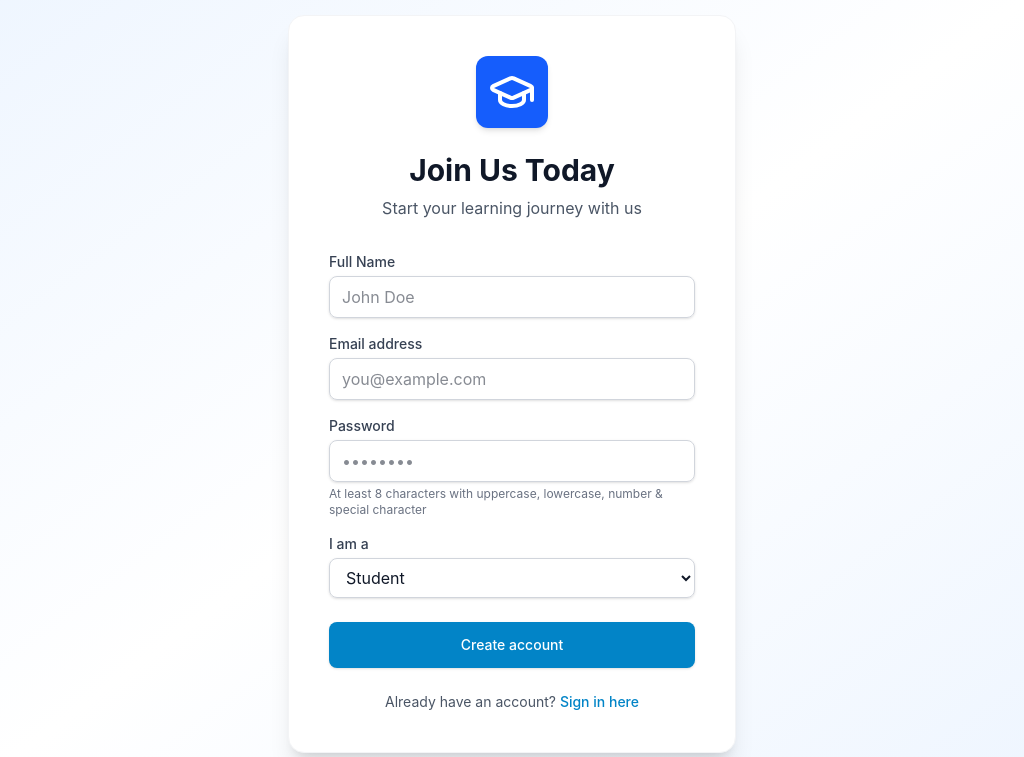
Test: Register page › shows error on duplicate email
Type "Existing User" into the field labelled "Full Name". click: (512, 297)
box: [329,276,695,318]
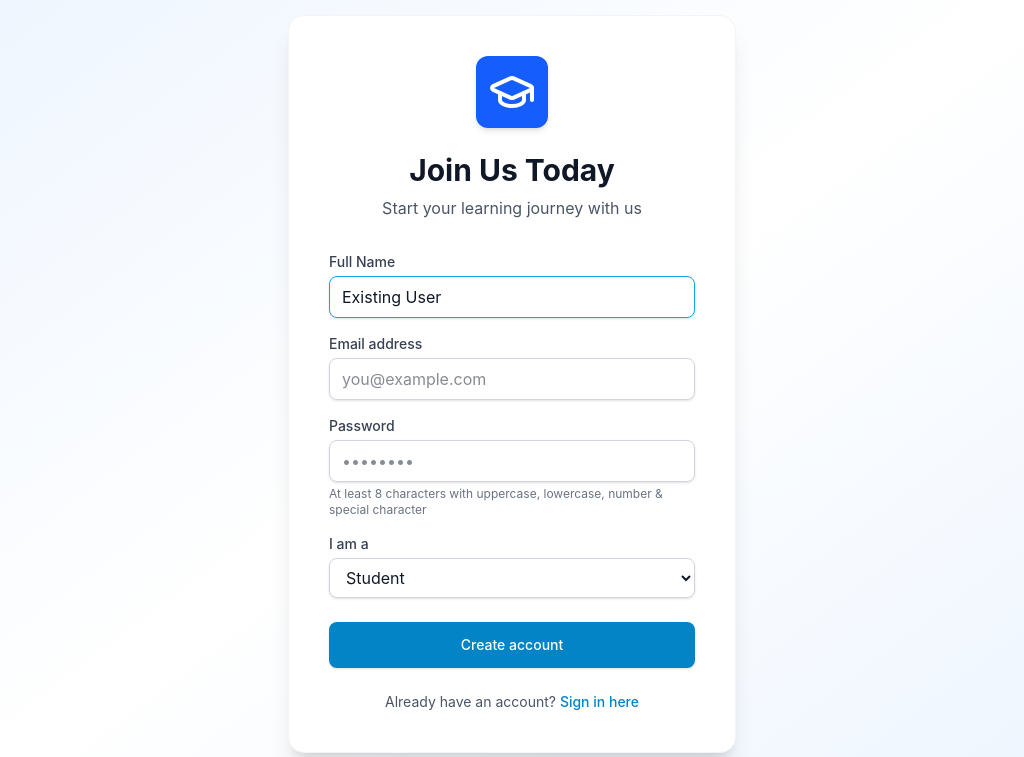
Type "existing@test.com" into the field labelled "Email address". click: (512, 379)
box: [329,358,695,400]
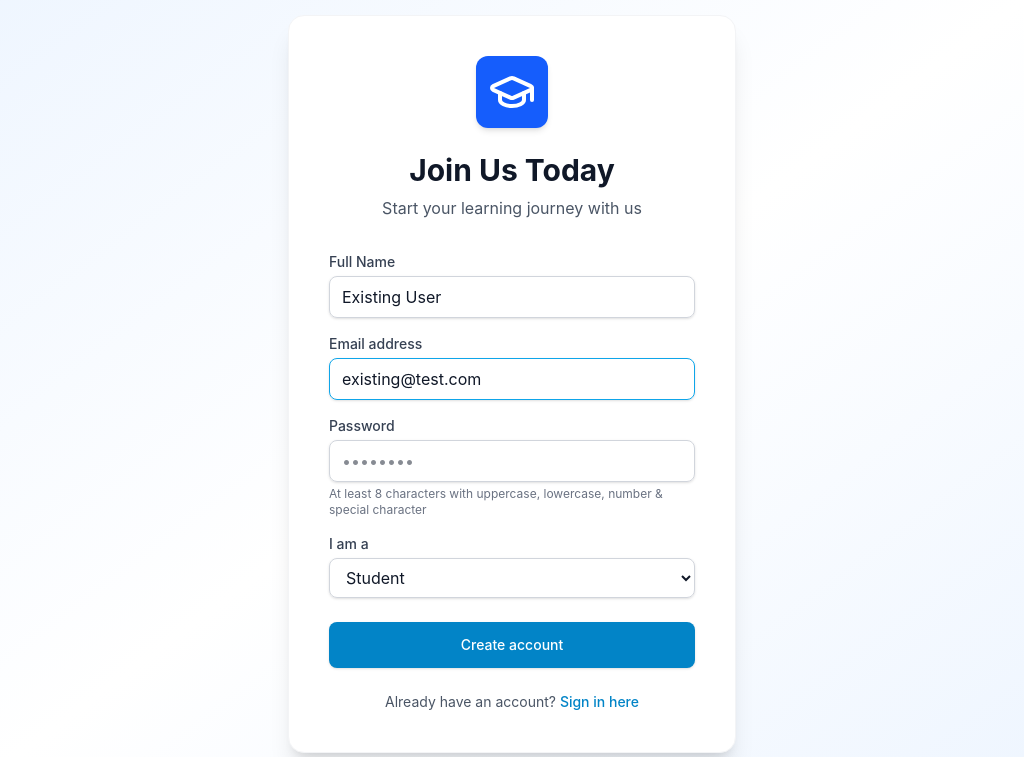
Type "password123" into the password field labelled "Password". click: (512, 461)
box: [329,440,695,482]
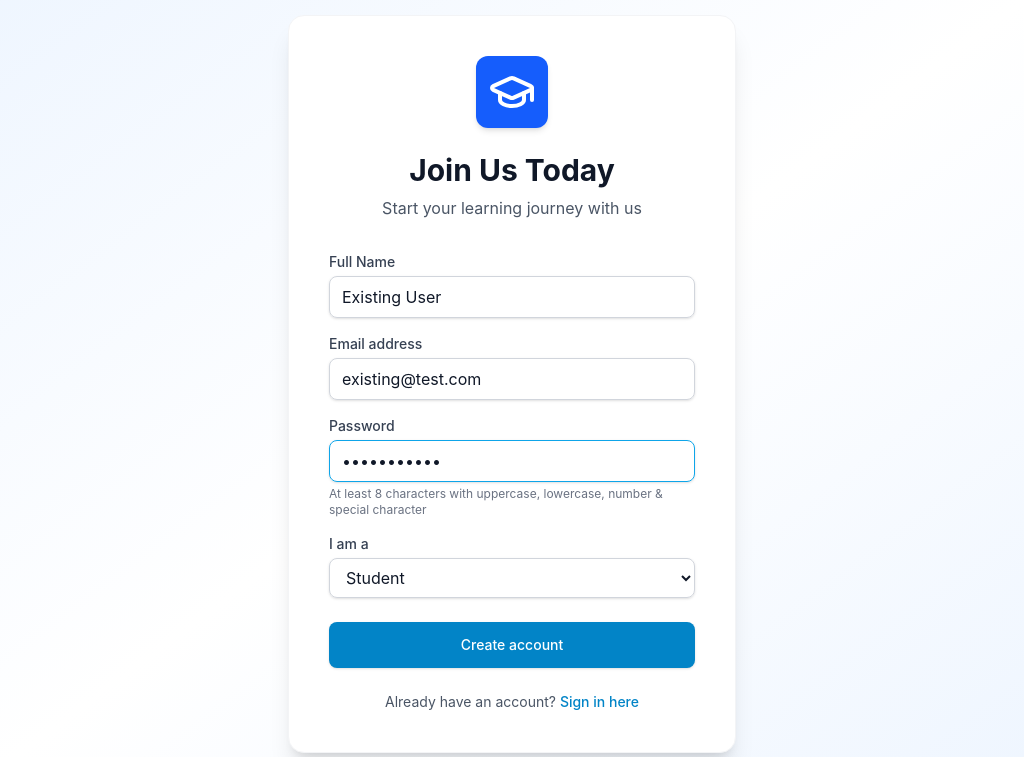
Click the button "Create account". click: (512, 645)
box: [329,622,695,668]
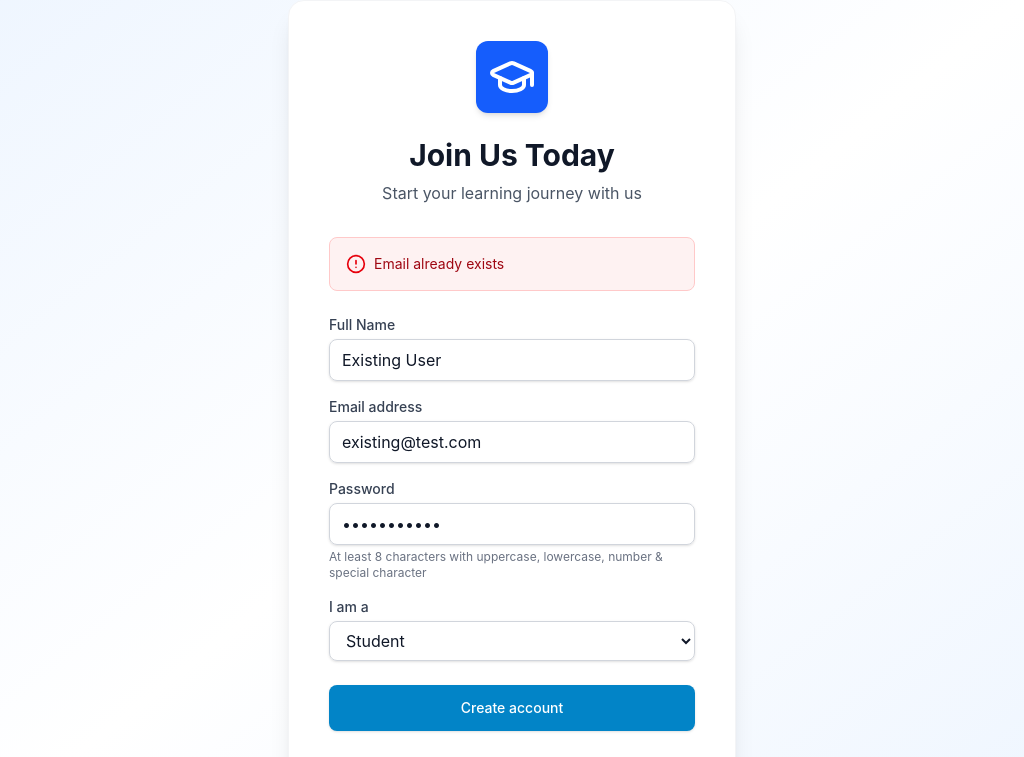
Result: the text "Email already exists" is shown at [374,254,504,274]
